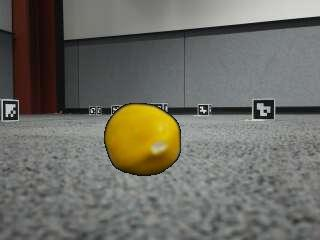lemon: (105, 106, 179, 178)
